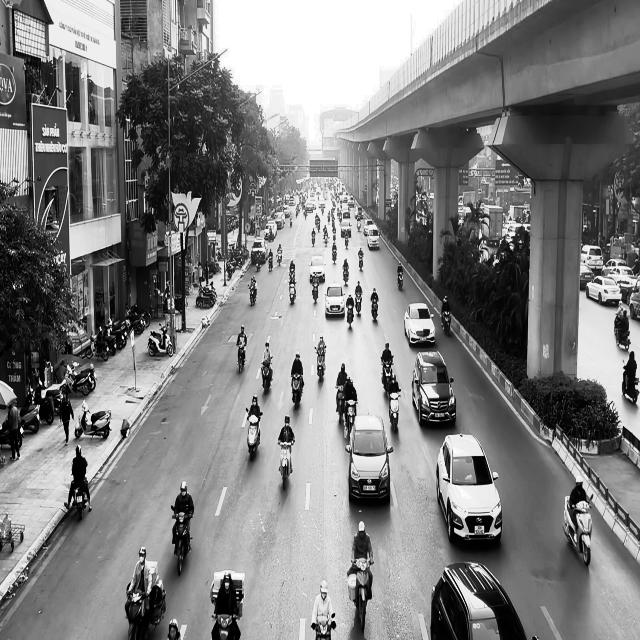car: (430, 560, 529, 640), (436, 432, 502, 543), (345, 413, 394, 503), (412, 350, 456, 426), (404, 302, 435, 346), (585, 276, 622, 306), (324, 283, 345, 317), (309, 255, 326, 283)
motorbike: (562, 495, 592, 566), (347, 558, 373, 631), (171, 504, 193, 575), (75, 400, 112, 440), (245, 408, 263, 461), (148, 323, 174, 357), (278, 439, 294, 490), (72, 476, 90, 520), (622, 360, 640, 403), (311, 614, 336, 640), (387, 389, 401, 432), (342, 399, 357, 439), (380, 357, 393, 394), (291, 372, 304, 408), (614, 323, 631, 350), (314, 346, 326, 381), (261, 359, 272, 394), (335, 385, 345, 421), (236, 341, 246, 373), (441, 308, 451, 336), (247, 280, 257, 306), (346, 304, 354, 328), (289, 277, 296, 303), (312, 276, 319, 302), (355, 292, 362, 315), (371, 299, 378, 321), (343, 266, 349, 286), (397, 270, 403, 290)
